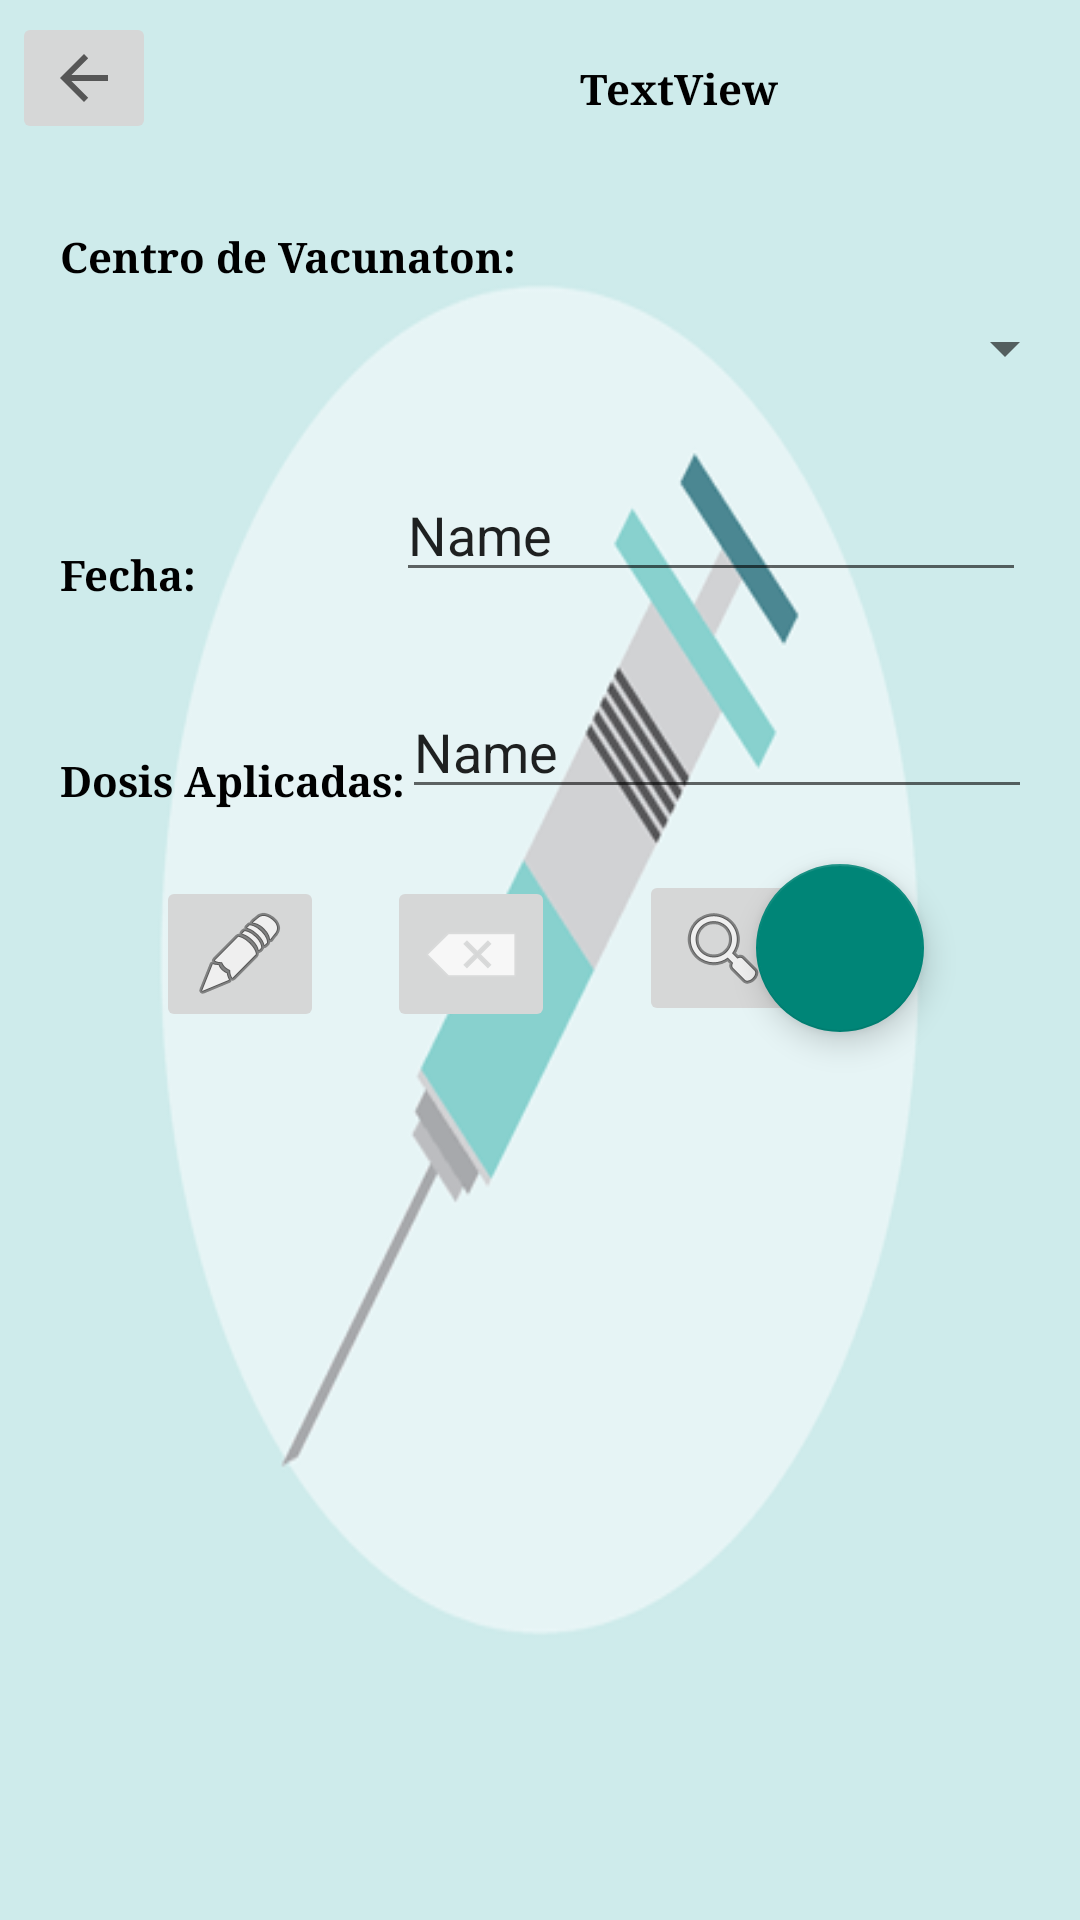

Where to tap for icons on this 1080×1920 app screen, as [x,y]:
delete: [471,954]
edit: [234,954]
